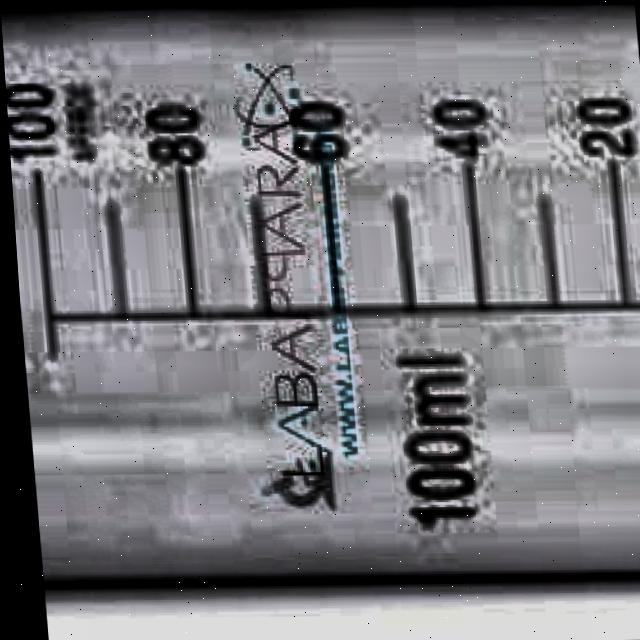glass: (0, 2, 640, 609)
